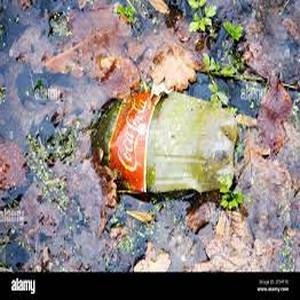Plastic: (92, 85, 239, 198)
